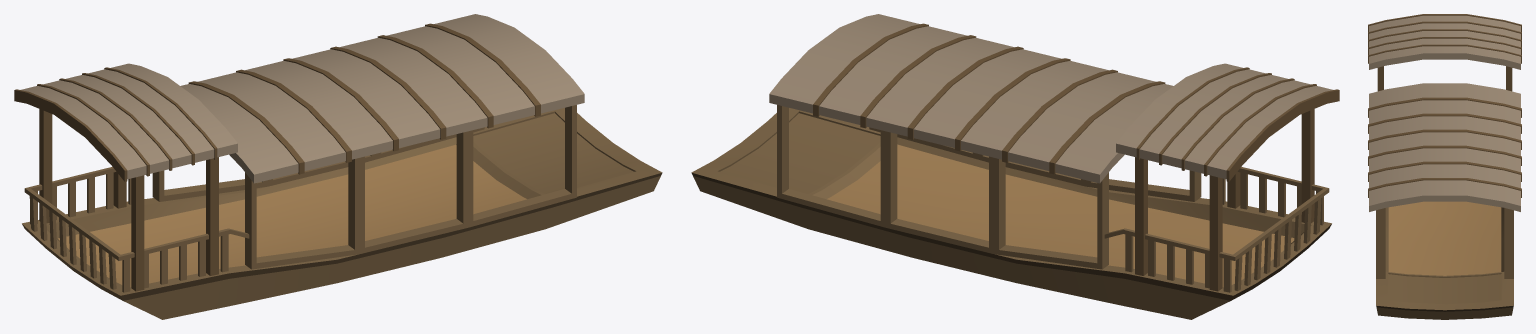
File: Boat_2.fbx
3 renders of one model, left to right at view 1: azimuth 30°, elevation 25°; view 2: azimuth 150°, elevation 25°; view 3: azimuth 270°, elevation 25°, orthographic. The views are drawn at different scales.
Visible parts, largest first — view 1: Boat_2; view 2: Boat_2; view 3: Boat_2.
Part boxes in pixels (box(x1,y1,x2,y2)): Boat_2: box(14, 14, 662, 319); Boat_2: box(691, 14, 1339, 319); Boat_2: box(1368, 14, 1521, 319).
Size of the model in its own units: 1113 by 379 by 392.
